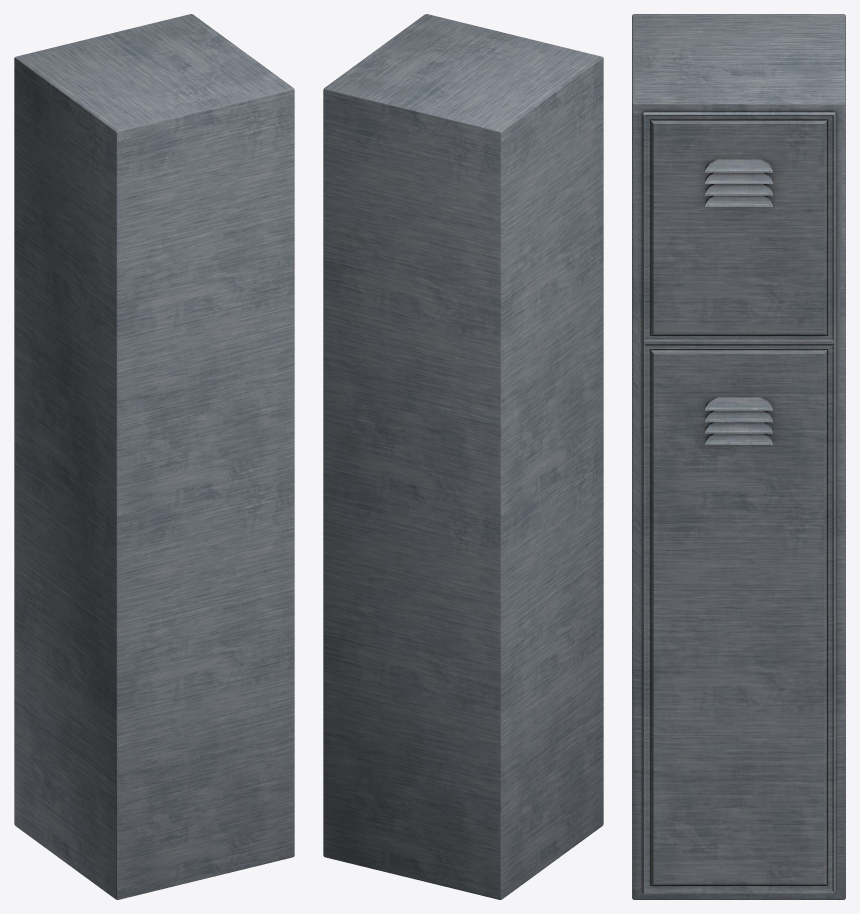
File: locker.glb
3 renders of one model, left to right at view 1: azimuth 30°, elevation 25°; view 2: azimuth 150°, elevation 25°; view 3: azimuth 270°, elevation 25°, orthographic. The views are drawn at different scales.
Visible parts, largest first — view 1: Spint_0; view 2: Spint_0; view 3: Spint_0.
Part boxes in pixels (x1,y1,x2,y2): Spint_0: (14,14,294,899); Spint_0: (323,14,603,899); Spint_0: (632,14,845,899).
Bounding box in the file's own units: 0.594 × 2.3 × 0.5584.
Materials: 1 (1 with a texture image).
